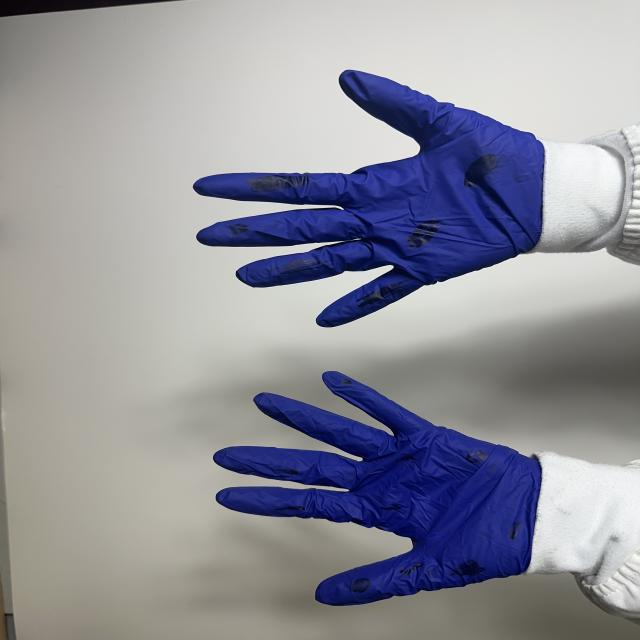gloves_contaminated: (194, 71, 544, 327), (214, 372, 542, 605)
